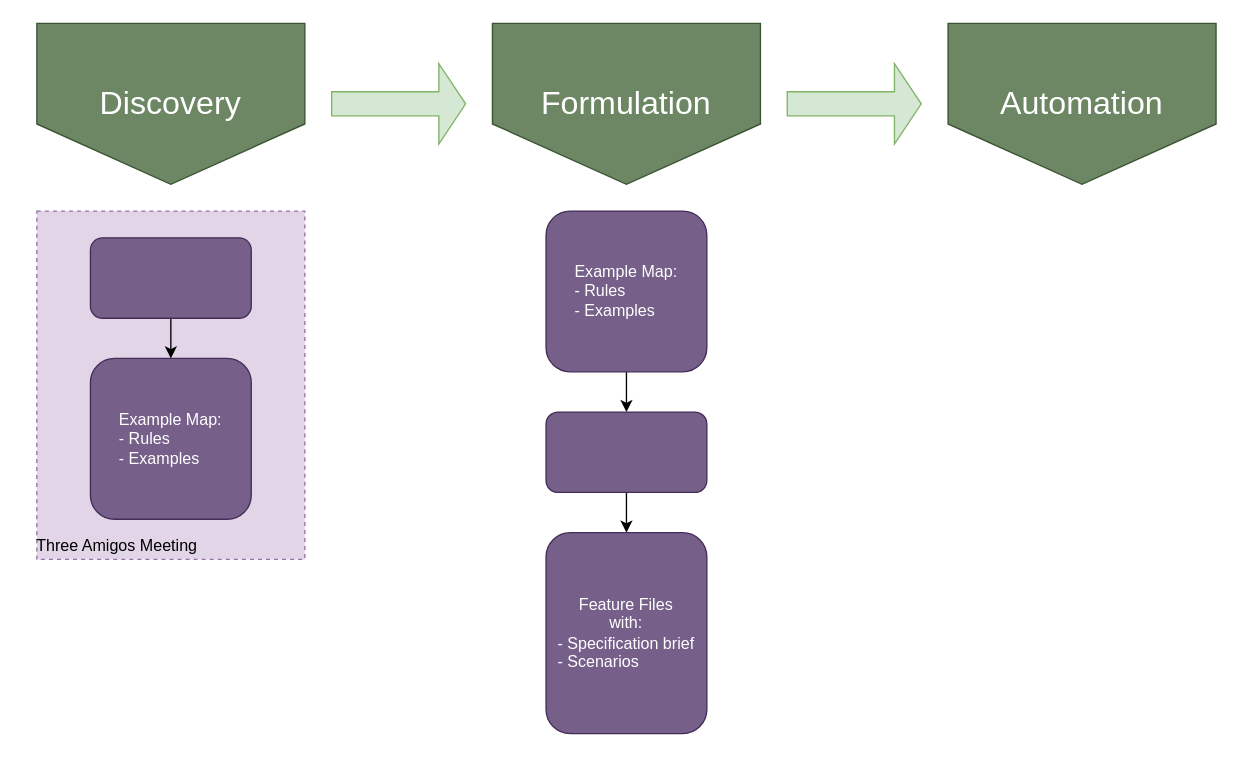
This 1240x757 diagram has some shape labels left out. Here are the shapes that lost their labels. From the top down, the box of each, then its label:
(89, 237, 251, 318): User Story
(545, 411, 707, 492): Scenarios
